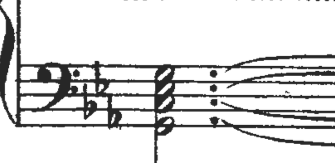bass_clef: (29, 51, 82, 119)
flat: (91, 53, 114, 99), (103, 92, 125, 131), (79, 83, 98, 124)
